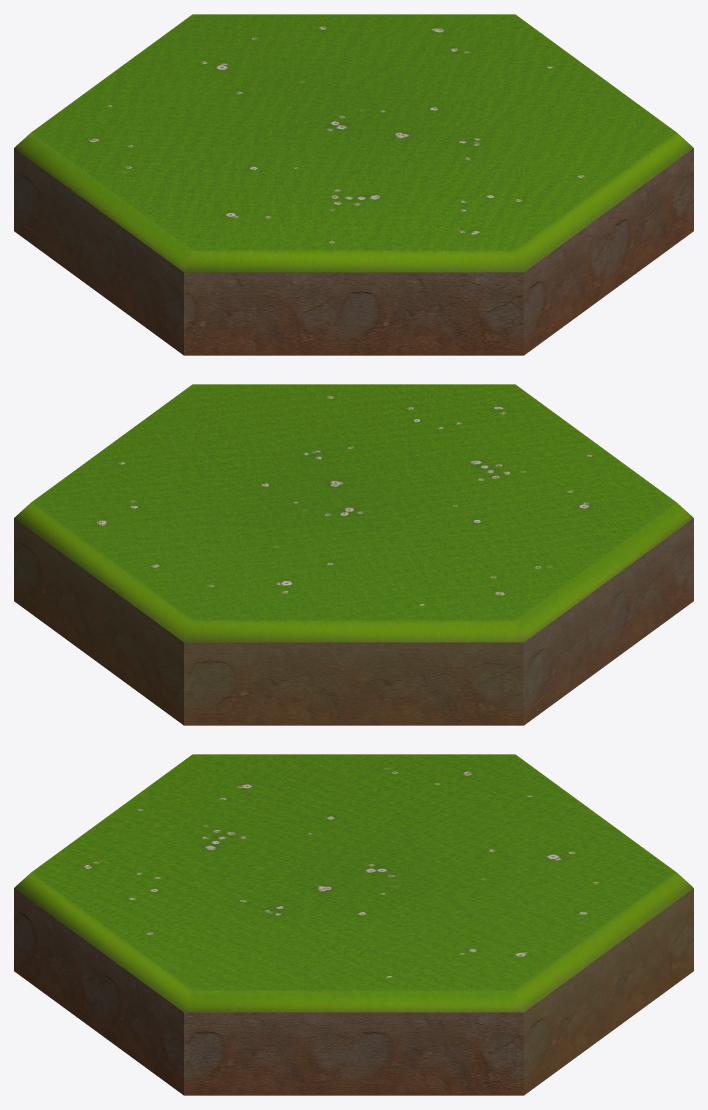
File: tile.glb
3 views of the same model, one above another, from view 1: azimuth 30°, elevation 25°; view 2: azimuth 150°, elevation 25°; view 3: azimuth 270°, elevation 25° (orthographic).
Bounding box in the file's own units: 0.866 × 0.16 × 1.
1 material, 1 textured.
